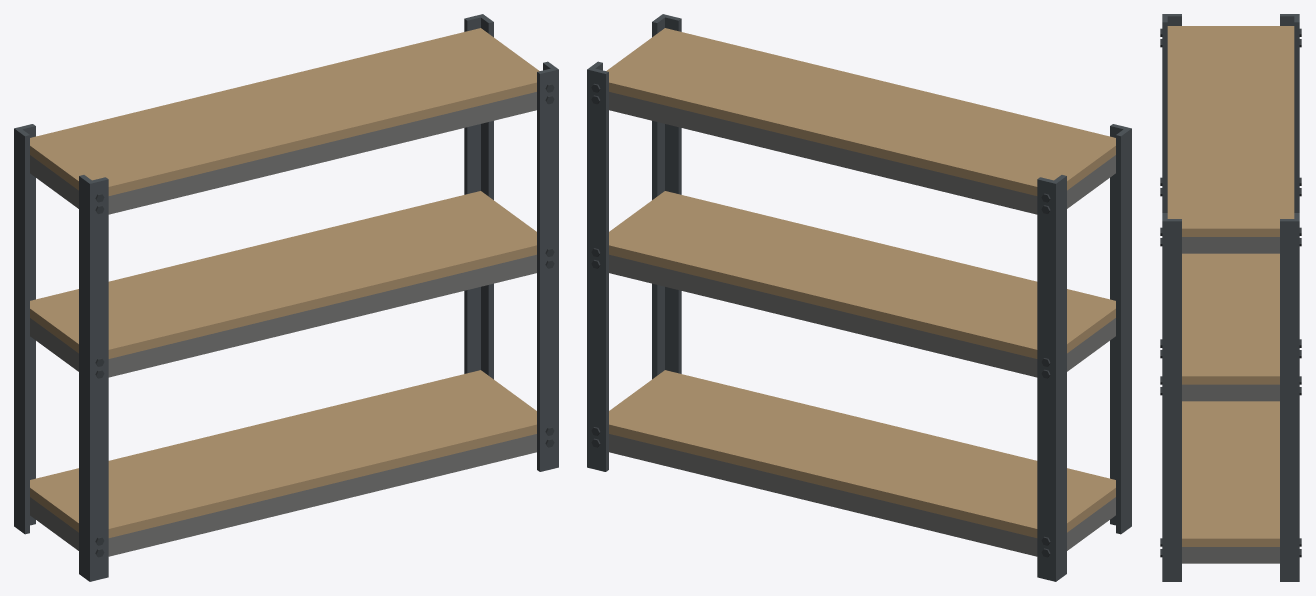
Rendered from SM_Prop_Shelves_Medium_01.fbx.
3 renders of one model, left to right at view 1: azimuth 30°, elevation 25°; view 2: azimuth 150°, elevation 25°; view 3: azimuth 270°, elevation 25°, orthographic. The views are drawn at different scales.
Visible parts, largest first — view 1: SM_Prop_Shelves_Medium_01; view 2: SM_Prop_Shelves_Medium_01; view 3: SM_Prop_Shelves_Medium_01.
Part boxes in pixels (<box>): SM_Prop_Shelves_Medium_01: <box>14,14,558,581</box>; SM_Prop_Shelves_Medium_01: <box>587,14,1131,581</box>; SM_Prop_Shelves_Medium_01: <box>1160,14,1301,581</box>.
Size of the model in its own units: 220 by 179 by 63.47.
